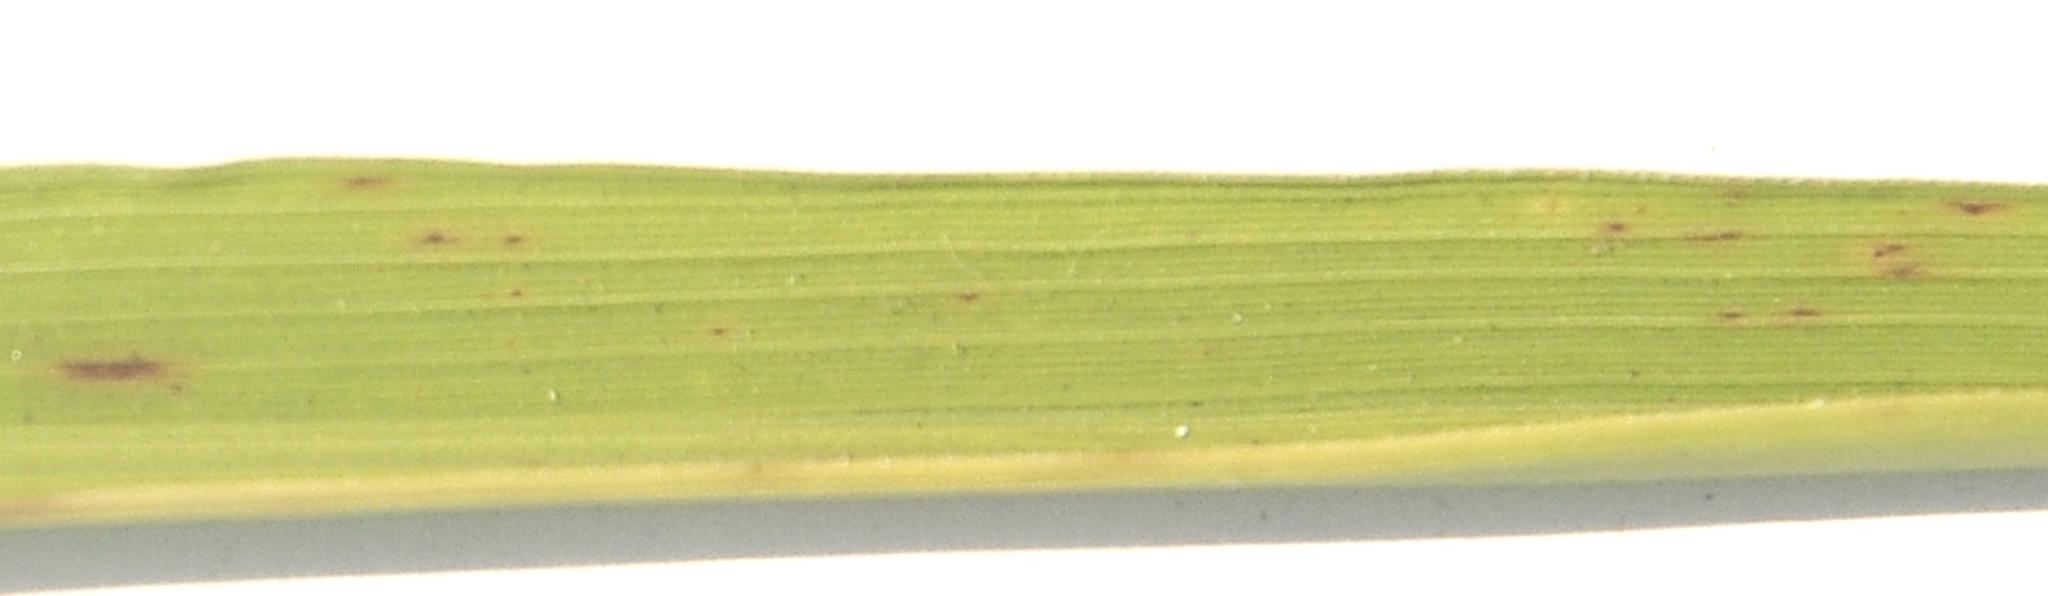0 BrownSpot: (1528, 98, 2028, 341), (389, 207, 576, 303), (34, 337, 200, 397)
